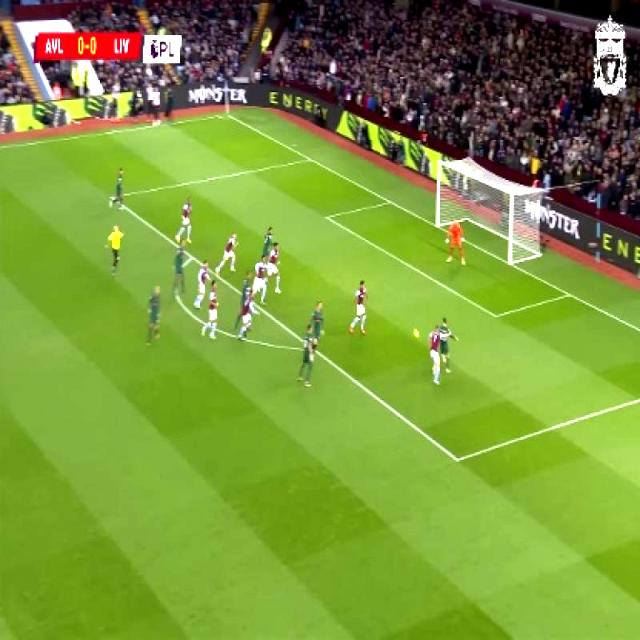bigarea_bottom_inner: (446, 443, 468, 472)
bigarea_top_inner: (104, 188, 118, 206)
bigarea_top_outter: (303, 151, 317, 166)
bottom_arc_area_intersection: (308, 340, 322, 358)
corner: (216, 108, 234, 122)
smallarea_bottom_inner: (486, 302, 504, 328)
smallarea_bottom_outter: (560, 283, 577, 303)
smallarea_top_inner: (316, 206, 334, 226)
smallarea_top_outter: (382, 192, 396, 210)
top_arc_area_intersection: (184, 244, 199, 266)
